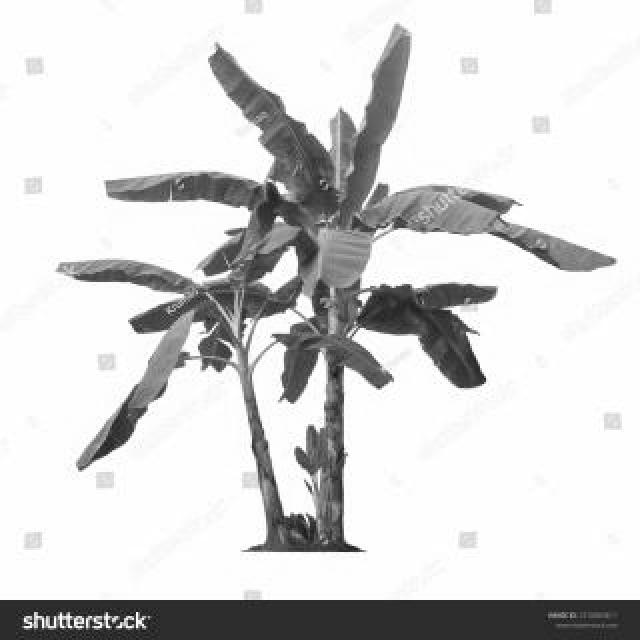Pisang: (59, 46, 590, 544)
